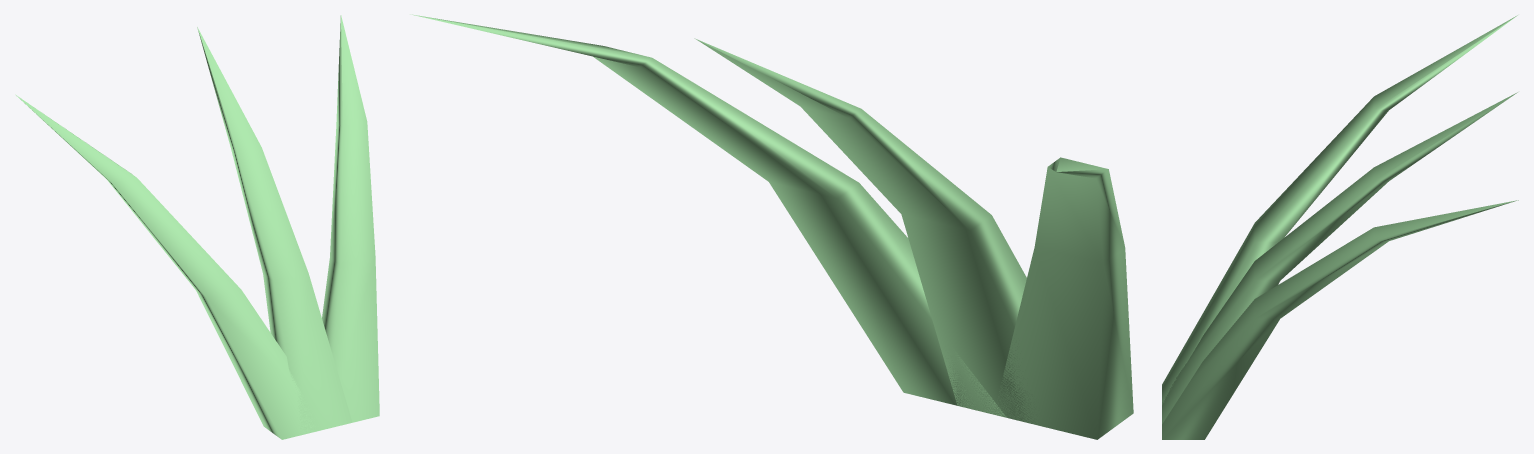
File: grass.fbx
3 renders of one model, left to right at view 1: azimuth 30°, elevation 25°; view 2: azimuth 150°, elevation 25°; view 3: azimuth 270°, elevation 25°, orthographic. The views are drawn at different scales.
Visible parts, largest first — view 1: polySurface3; view 2: polySurface3; view 3: polySurface3.
Part boxes in pixels (x1,y1,x2,y2): polySurface3: [15, 15, 379, 439]; polySurface3: [410, 14, 1133, 439]; polySurface3: [1162, 15, 1518, 439].
Size of the model in its own units: 93.95 by 78.29 by 76.42.
